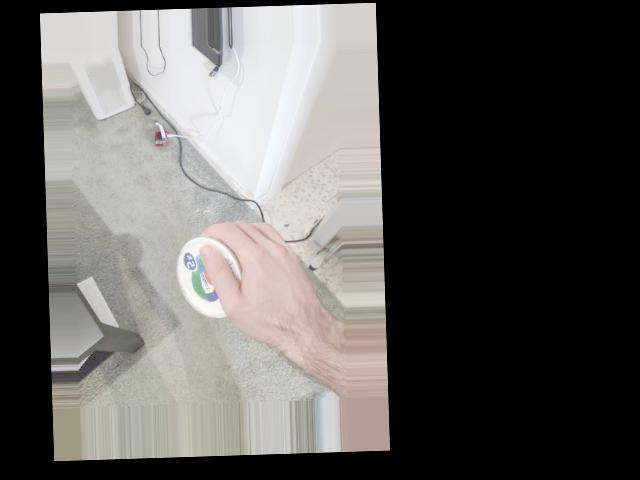cotage: (174, 234, 250, 318)
